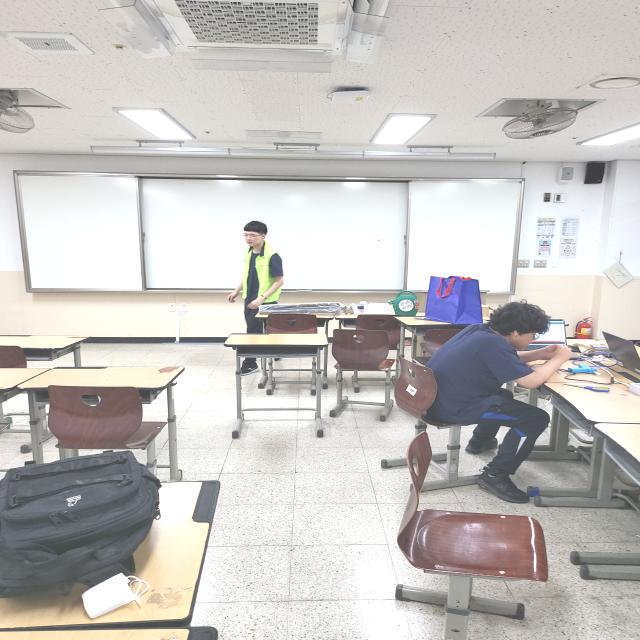weston_spy: (234, 252, 286, 311)
